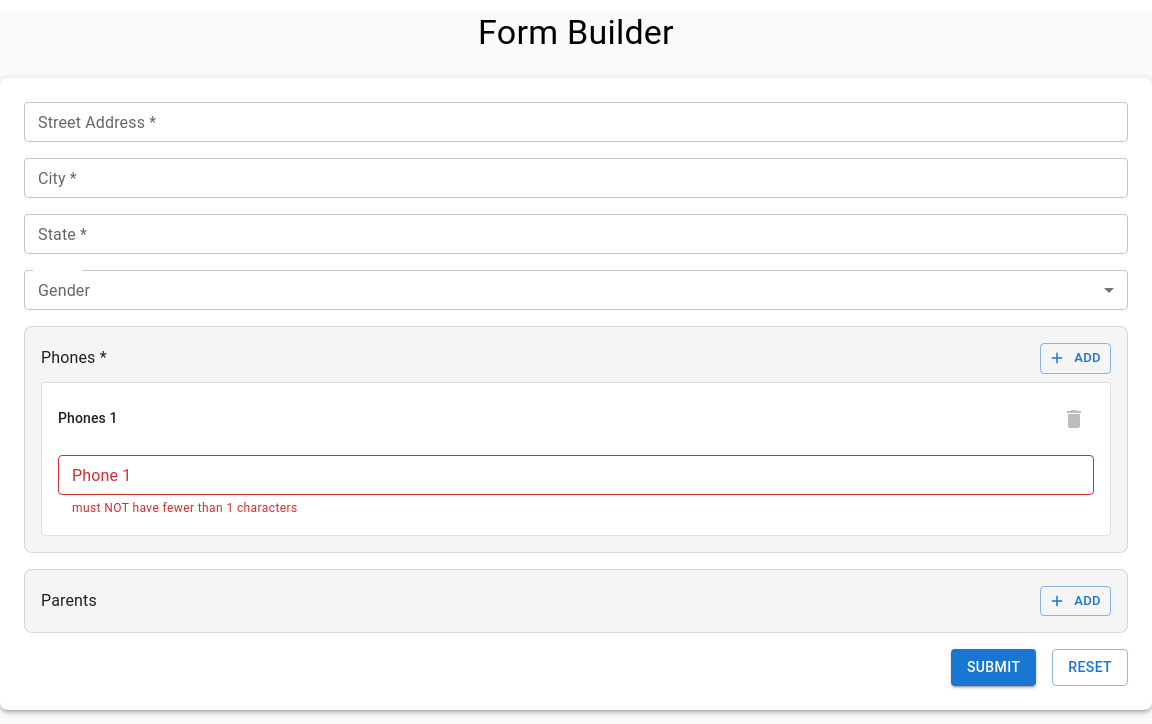
it: кнопка удаления недоступна при количестве элементов, равном minItems
Check: the 2nd button is disabled, box [1054,399,1094,439]
Type "123" into the field labelled "Phone 1".
click(576, 475); type("123")  # box [58,455,1094,495]
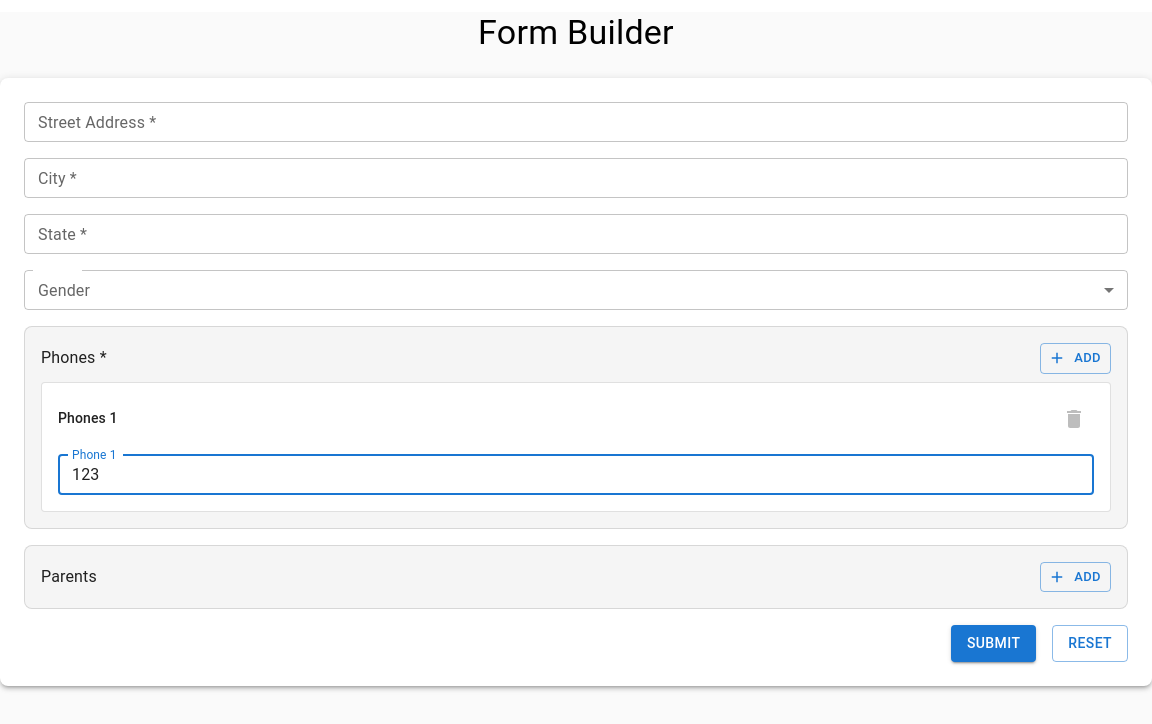
Click the 1st button "Add".
click(1076, 358)  # box [1040,343,1111,374]
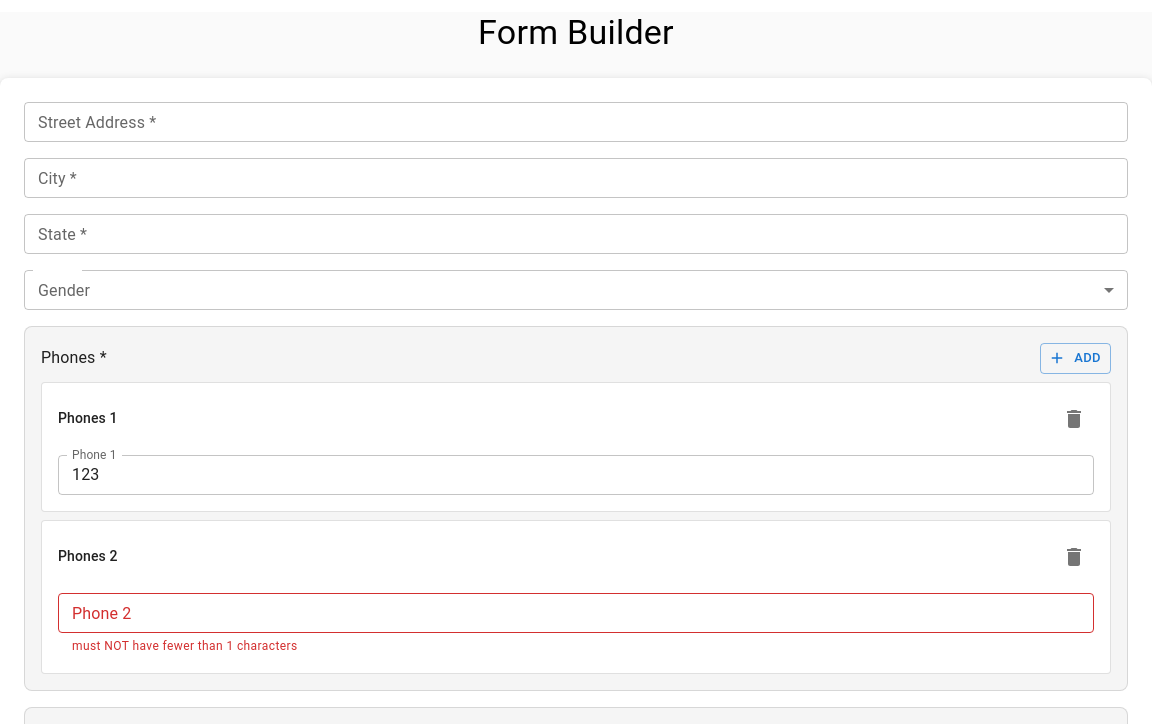
Check: the button without text in the row of "Phones 2" is enabled, box [1054,537,1094,577]
